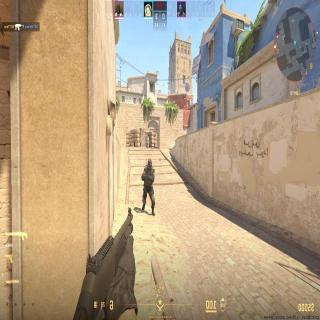CT-Body: (139, 158, 158, 210)
CT-Head: (144, 159, 154, 170)
